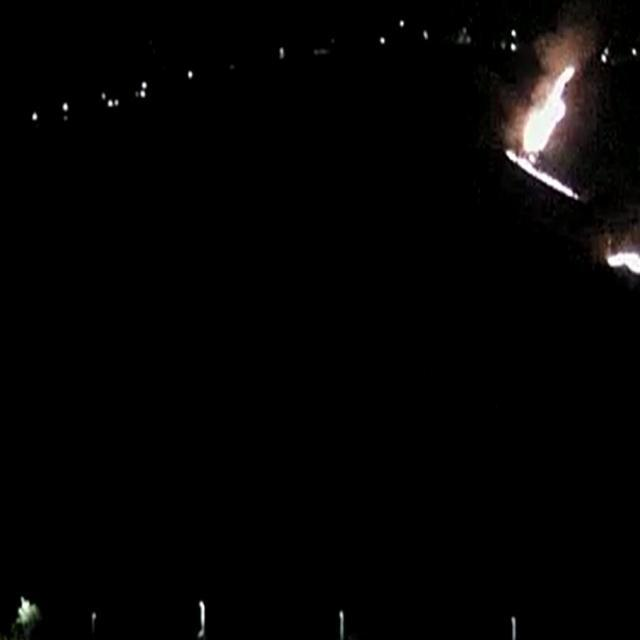Fire: (501, 54, 587, 206), (602, 237, 640, 277)
Smoke: (504, 15, 591, 120)
